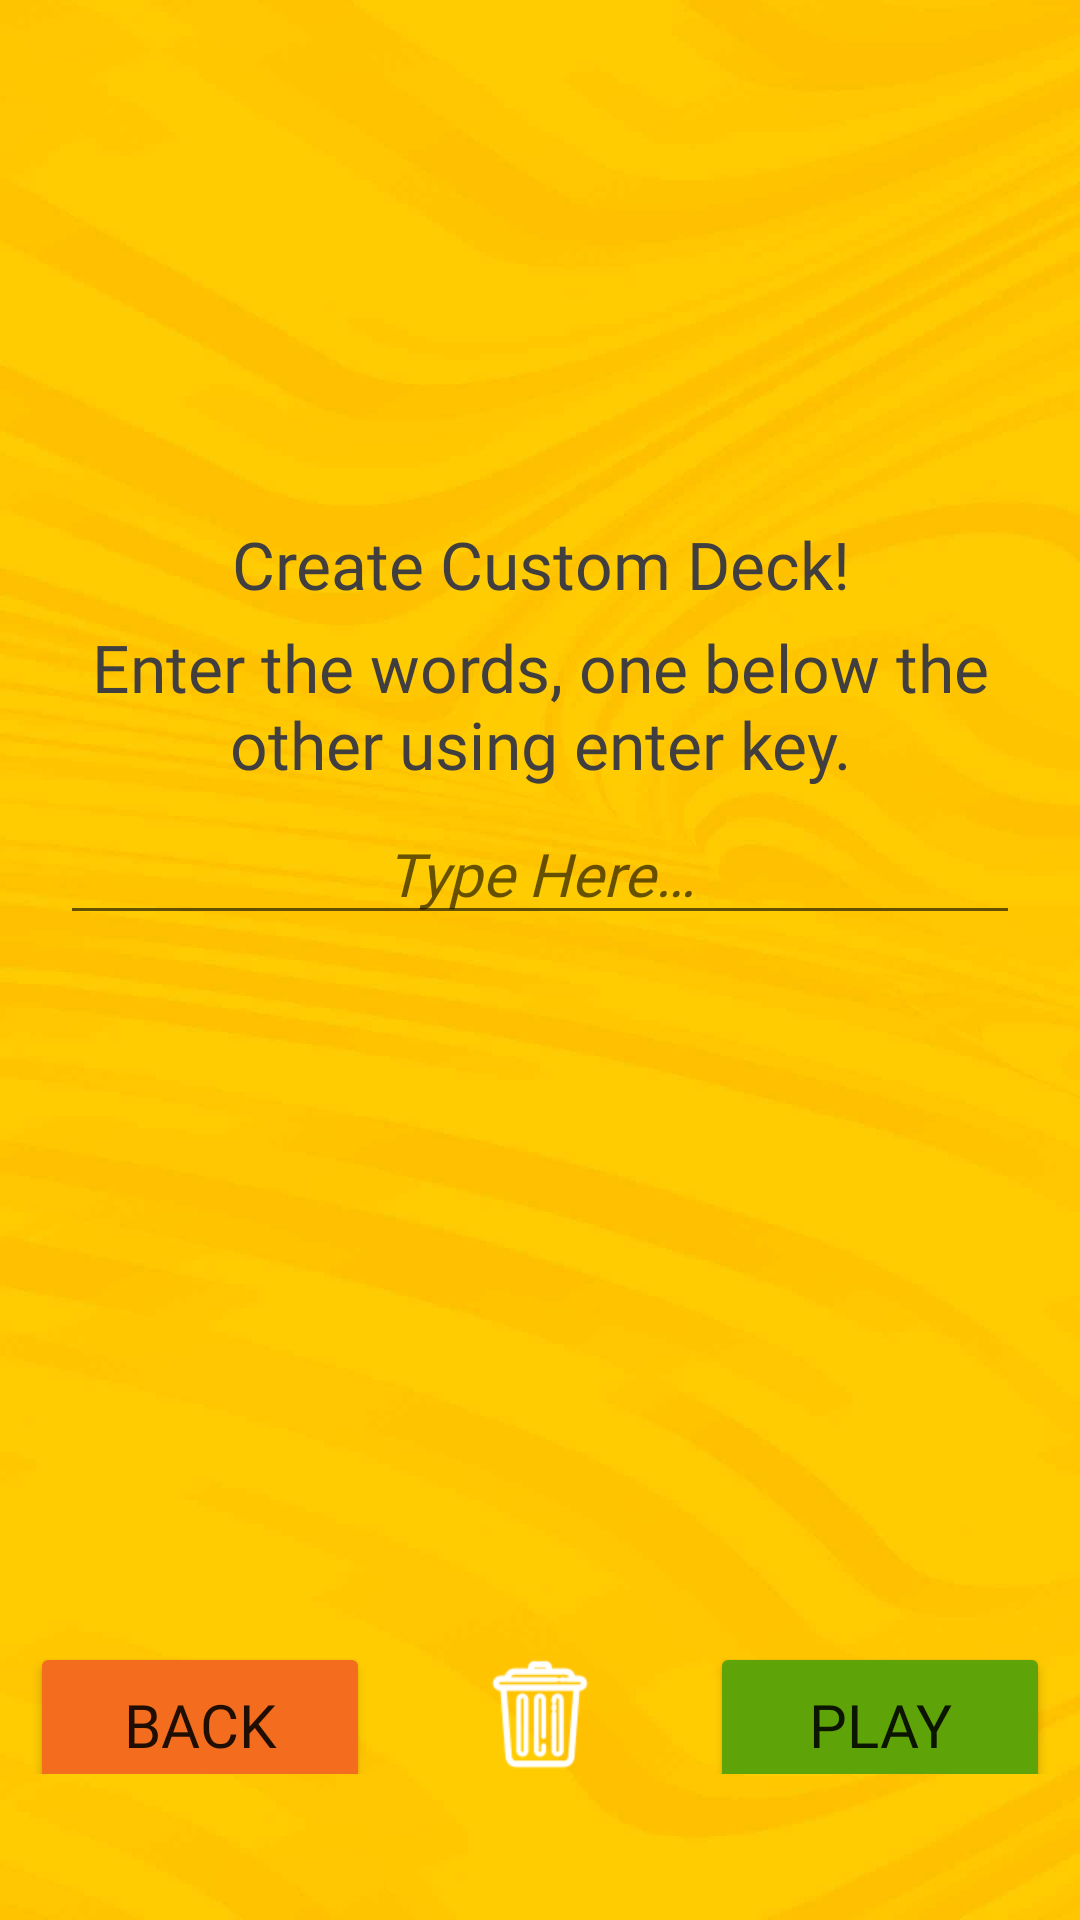

Icons on this 1080x1920 Android screen, each with its box as (x1=x1, y1=y1, x2=x2, y2=y2):
delete: (x1=492, y1=1660, x2=588, y2=1768)
